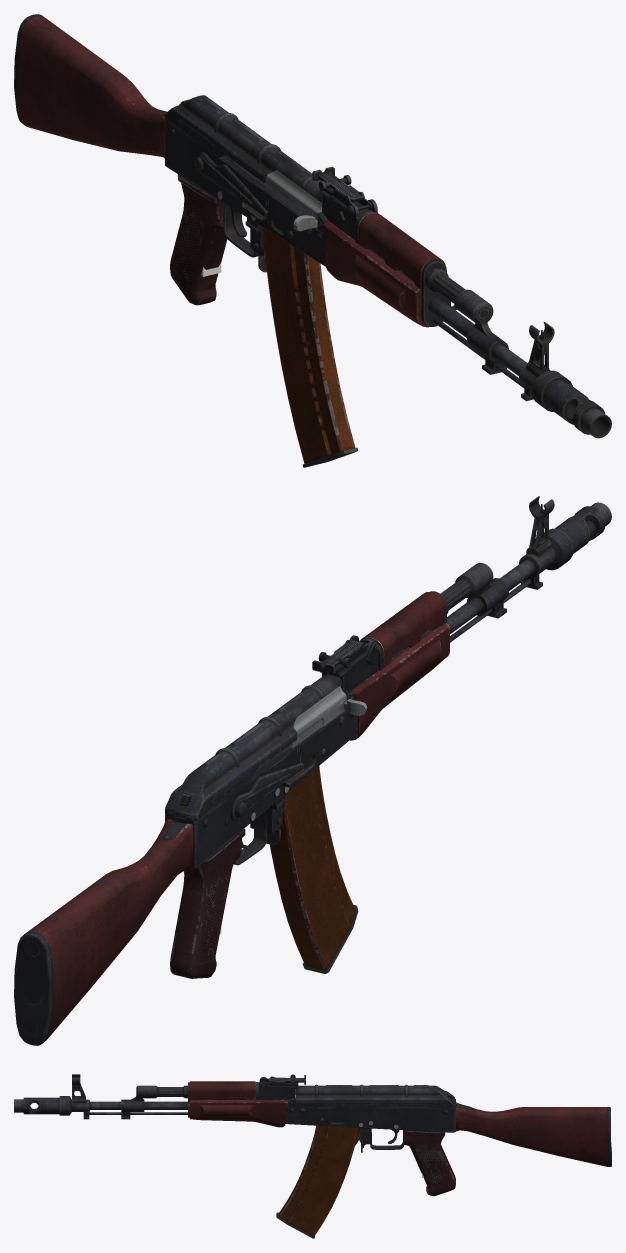
File: world.glb
3 renders of one model, top to bottom at view 1: azimuth 30°, elevation 25°; view 2: azimuth 150°, elevation 25°; view 3: azimuth 270°, elevation 25°, orthographic. The views are drawn at different scales.
Parts seen in each view (by area): view 1: base, mag, bolt; view 2: base, mag, bolt; view 3: base, mag.
Boxes of the visible parts, box(x1,y1,x2,y2) form: base: box(14, 14, 611, 438); mag: box(262, 227, 358, 467); bolt: box(265, 170, 321, 231); base: box(14, 496, 611, 1045); mag: box(270, 766, 358, 973); bolt: box(277, 685, 367, 756); base: box(14, 1074, 611, 1196); mag: box(276, 1125, 359, 1238).
Bounding box in the file's own units: 6.66 × 32.56 × 110.
2 materials, 1 textured.
